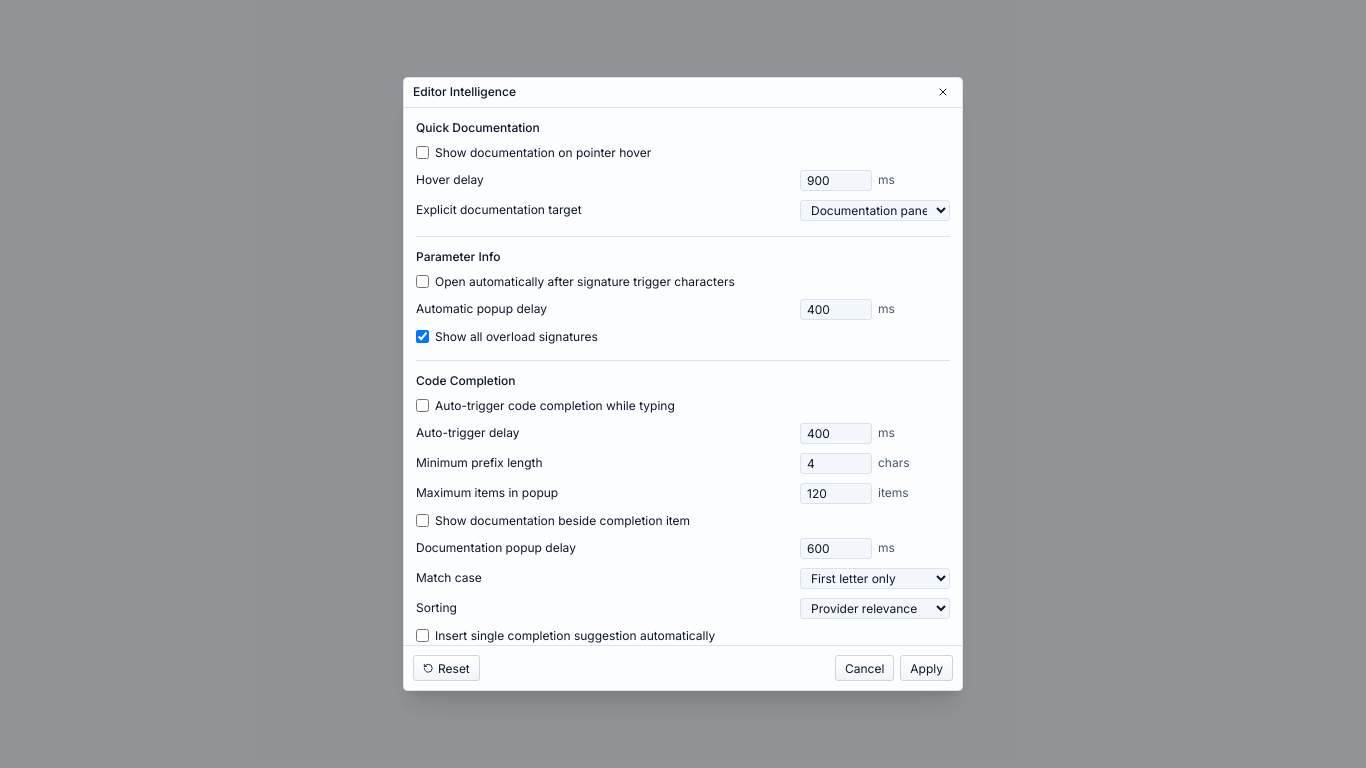
Test: WorkspaceIntelligenceSettingsDialog › resets the draft without mutating until Apply
Click the button with test id "workspace-intelligence-settings-reset": (446, 668) [413, 655, 480, 681]
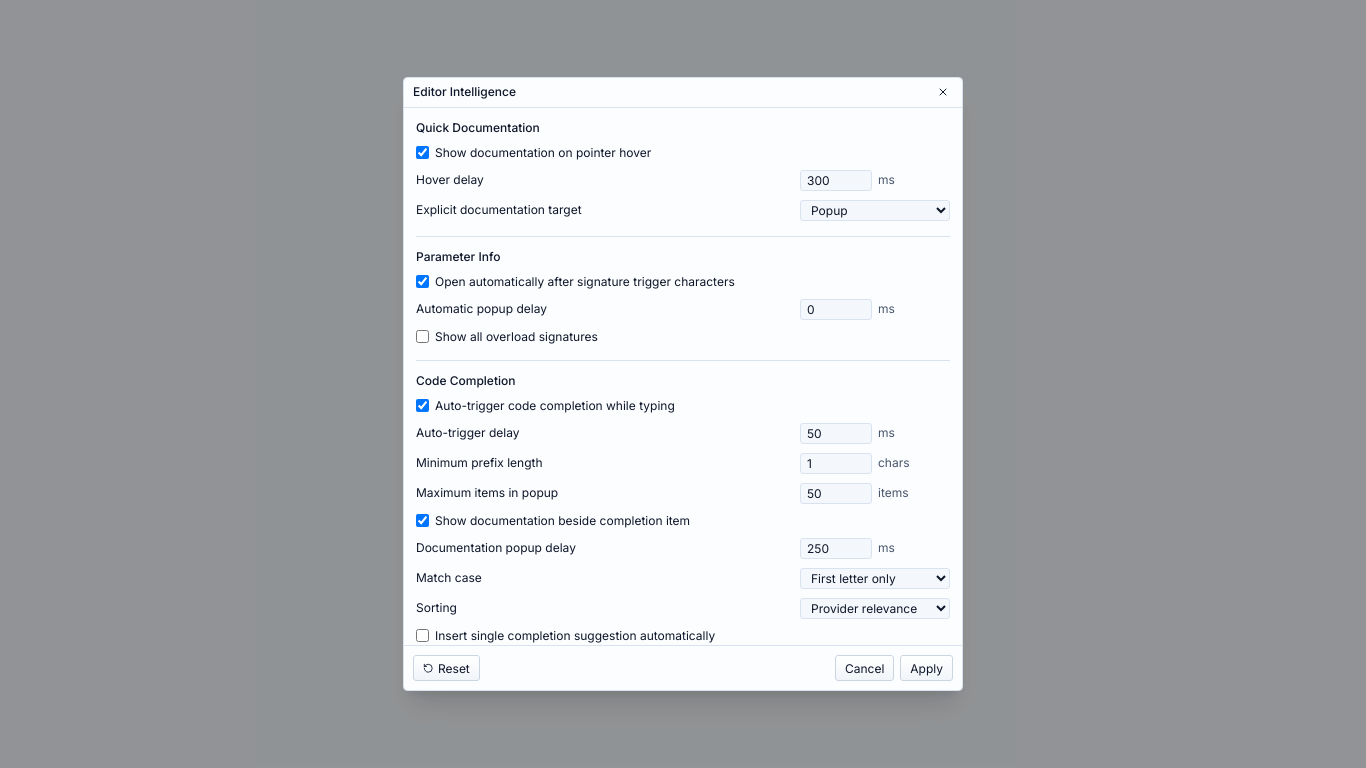
Check: the checkbox with test id "workspace-quick-doc-hover-enabled" is checked, box [416, 146, 429, 159]
Check: the number field with test id "workspace-quick-doc-hover-delay" holds "300", box [800, 170, 872, 191]
Check: the checkbox with test id "workspace-parameter-info-auto-popup" is checked, box [416, 275, 429, 288]
